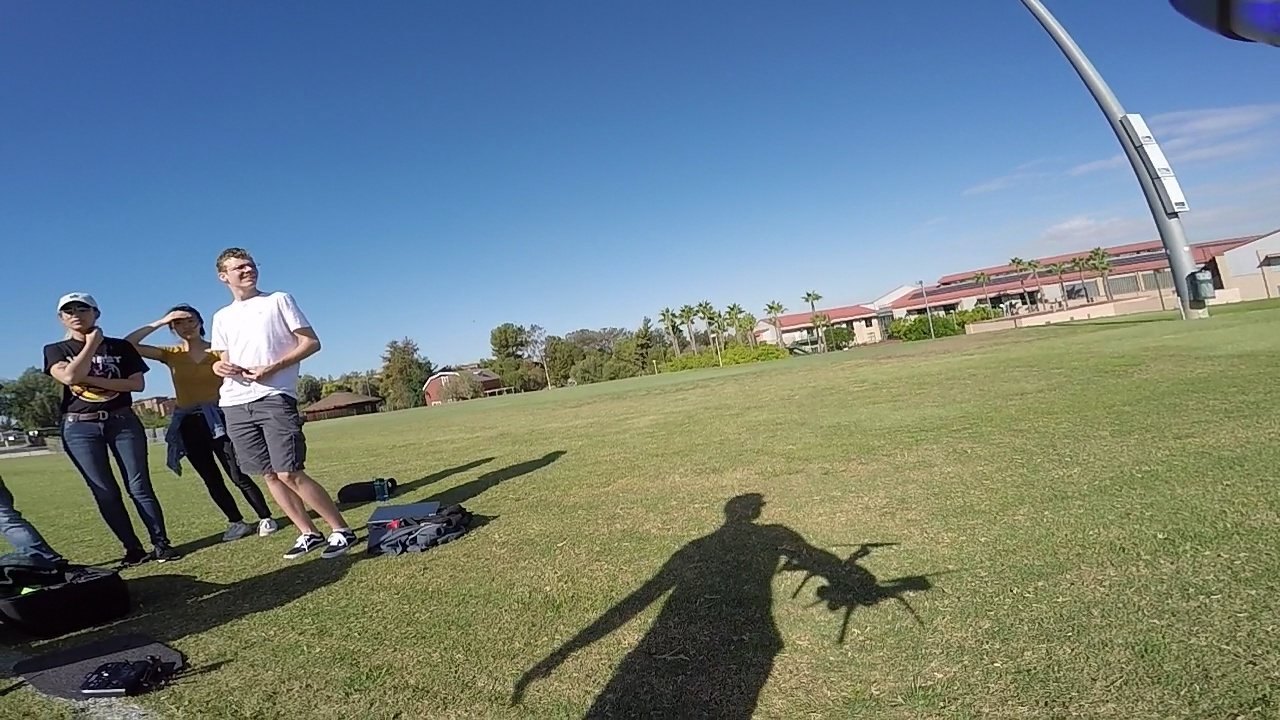person: (191, 240, 350, 553), (44, 284, 183, 566), (117, 289, 244, 529), (0, 470, 135, 584)
